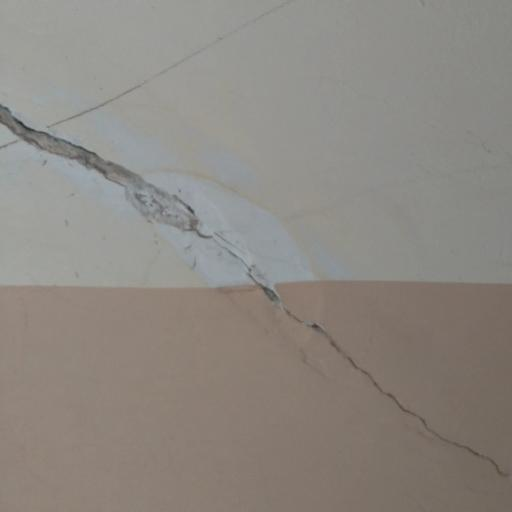major_crack: (3, 93, 509, 485)
